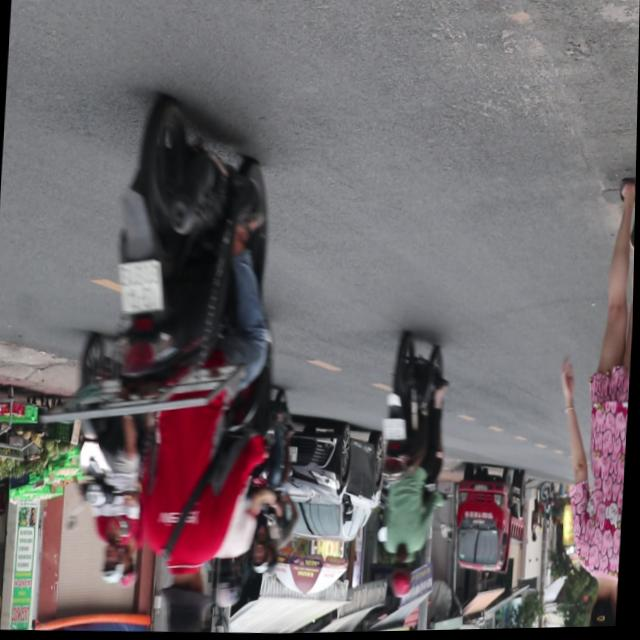helmet: (214, 558, 245, 612), (390, 558, 415, 601)
licenseplate: (66, 94, 295, 638), (372, 332, 454, 604)
motorcyclist: (159, 565, 213, 634)
nohelmet: (117, 263, 164, 315), (384, 421, 408, 443)
